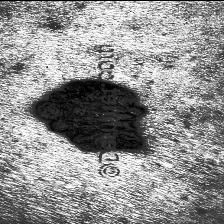Potentially Malignant Skin Tumors: (36, 70, 103, 156), (118, 79, 158, 156)
